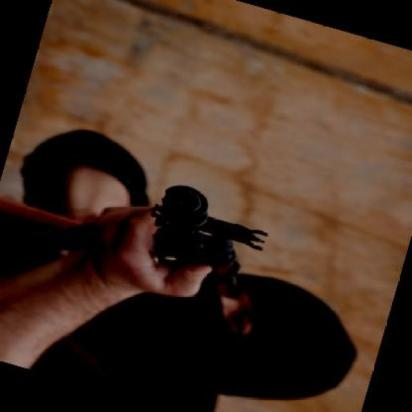Gun: (93, 161, 289, 314)
